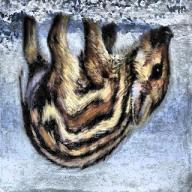boar: (18, 14, 174, 172)
